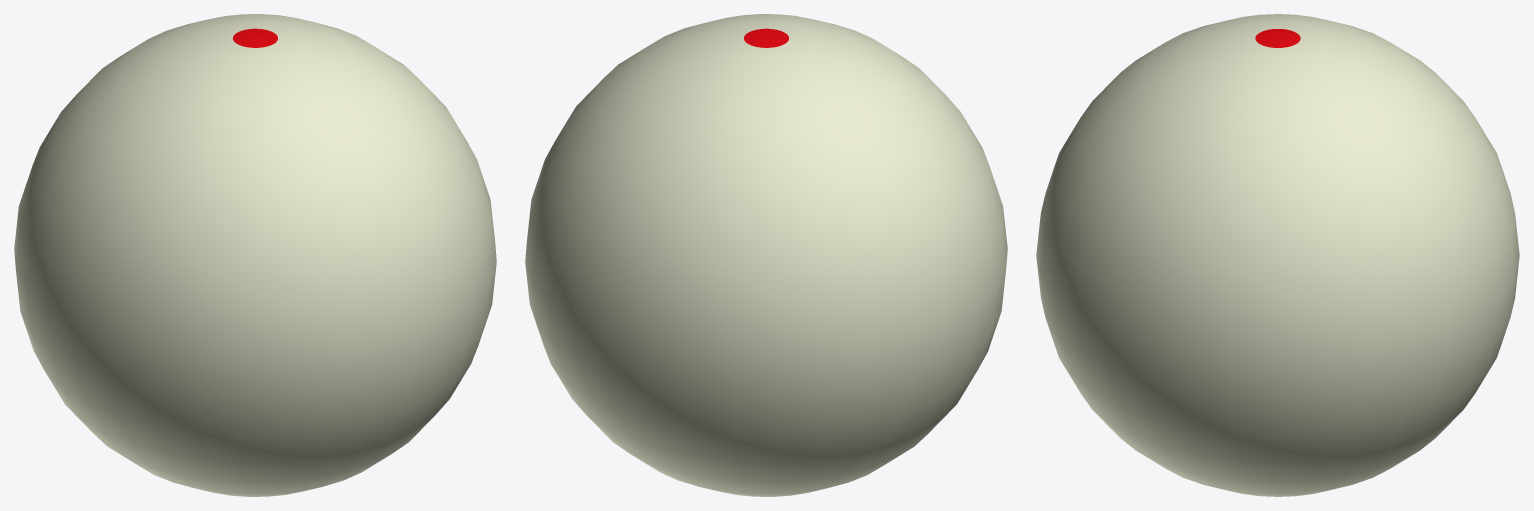
File: CueBall.glb
3 renders of one model, left to right at view 1: azimuth 30°, elevation 25°; view 2: azimuth 150°, elevation 25°; view 3: azimuth 270°, elevation 25°, orthographic.
Visible parts, largest first — view 1: Sphere; view 2: Sphere; view 3: Sphere.
Part boxes in pixels (bbox=[...]): Sphere: bbox=[14, 14, 496, 496]; Sphere: bbox=[525, 14, 1007, 496]; Sphere: bbox=[1036, 14, 1519, 496].
Size of the model in its own units: 0.2 by 0.2 by 0.2.
